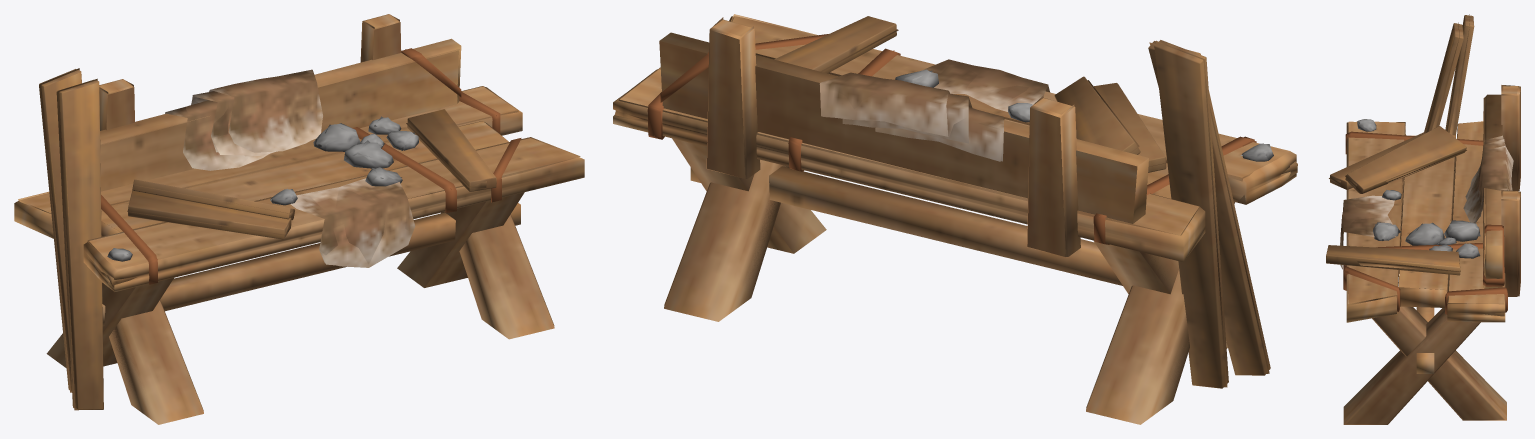
Rendered from Workbench.fbx.
3 renders of one model, left to right at view 1: azimuth 30°, elevation 25°; view 2: azimuth 150°, elevation 25°; view 3: azimuth 270°, elevation 25°, orthographic. The views are drawn at different scales.
Parts seen in each view (by area): view 1: high, low; view 2: high, low; view 3: high, low.
Boxes of the visible parts, x1=… form: high: x1=14, y1=14, x2=584, y2=424; low: x1=18, y1=14, x2=580, y2=424; high: x1=613, y1=16, x2=1296, y2=424; low: x1=614, y1=14, x2=1297, y2=424; high: x1=1326, y1=15, x2=1518, y2=424; low: x1=1327, y1=14, x2=1520, y2=424.
Bounding box in the file's own units: 306 × 185 × 133.
1 material, 1 textured.
